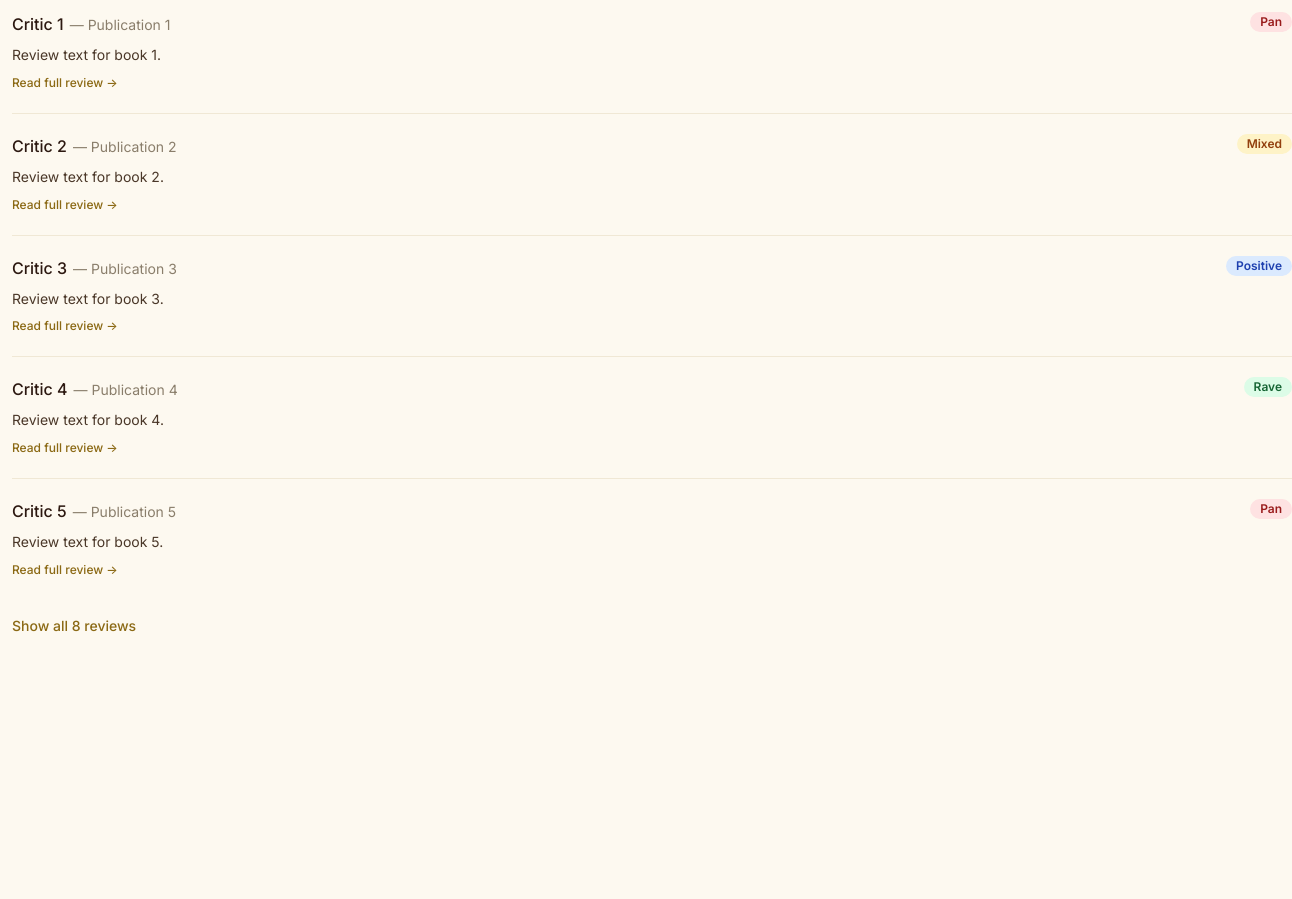
Scenario: ReviewList › expand/collapse with more than 5 reviews › shows all reviews after clicking expand button
Click the button "Show all 8 reviews". click: point(74, 626)
box: [12, 616, 136, 636]
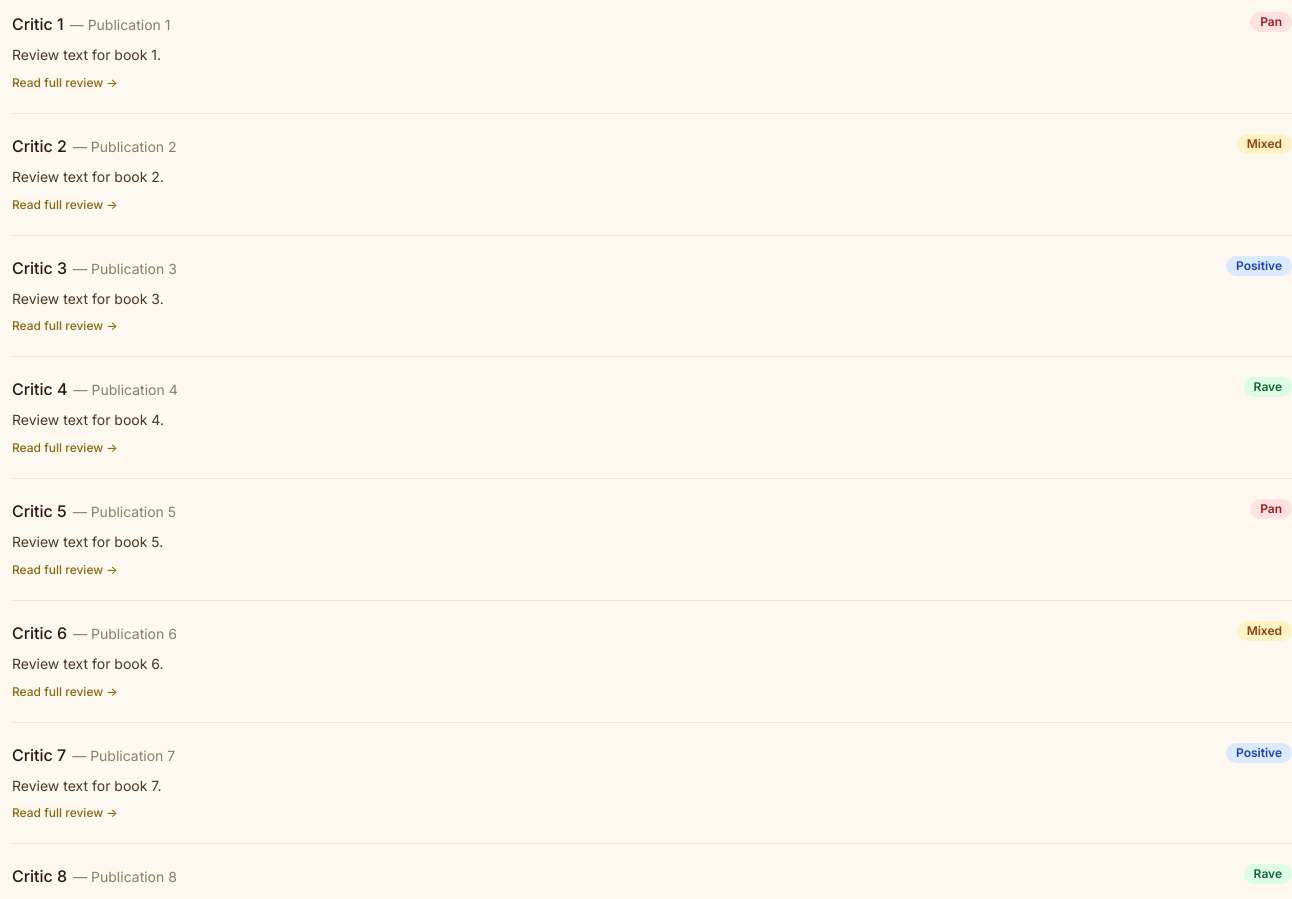
Expected: the text "Critic 6" is shown, [12, 623, 67, 643]
Expected: the text "Critic 7" is shown, [12, 744, 66, 764]
Expected: the text "Critic 8" is shown, [12, 866, 67, 886]
